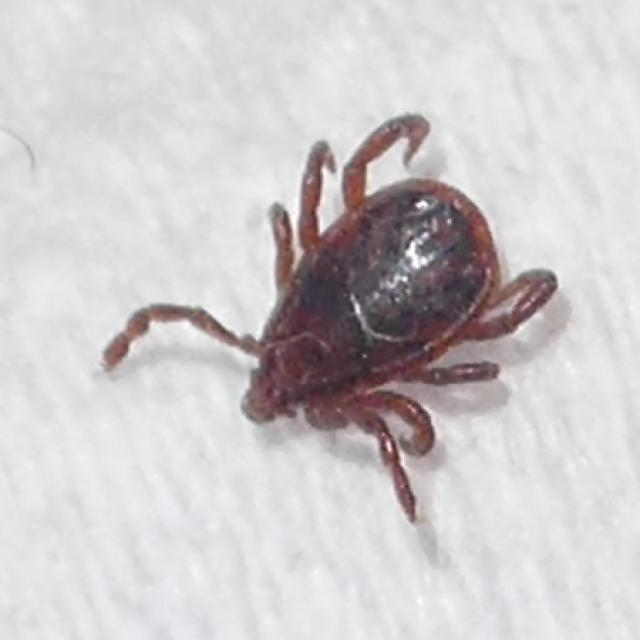Rhipicephalus Sanguineus-M: (101, 115, 560, 527)
